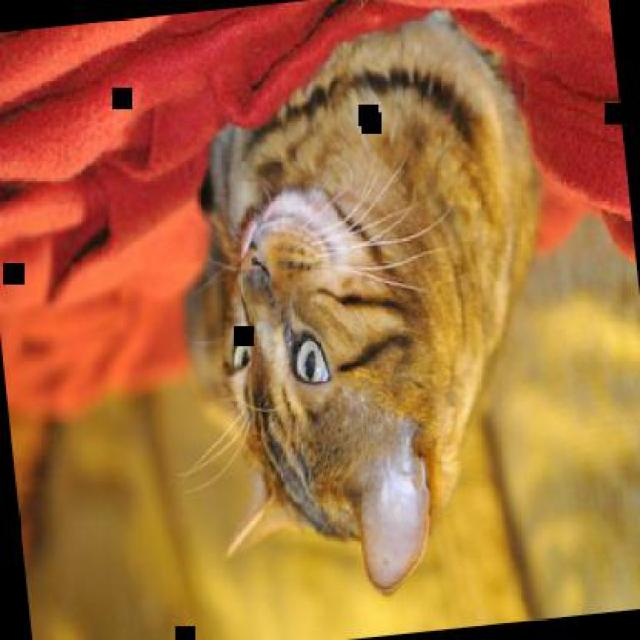cat: (170, 2, 582, 612)
